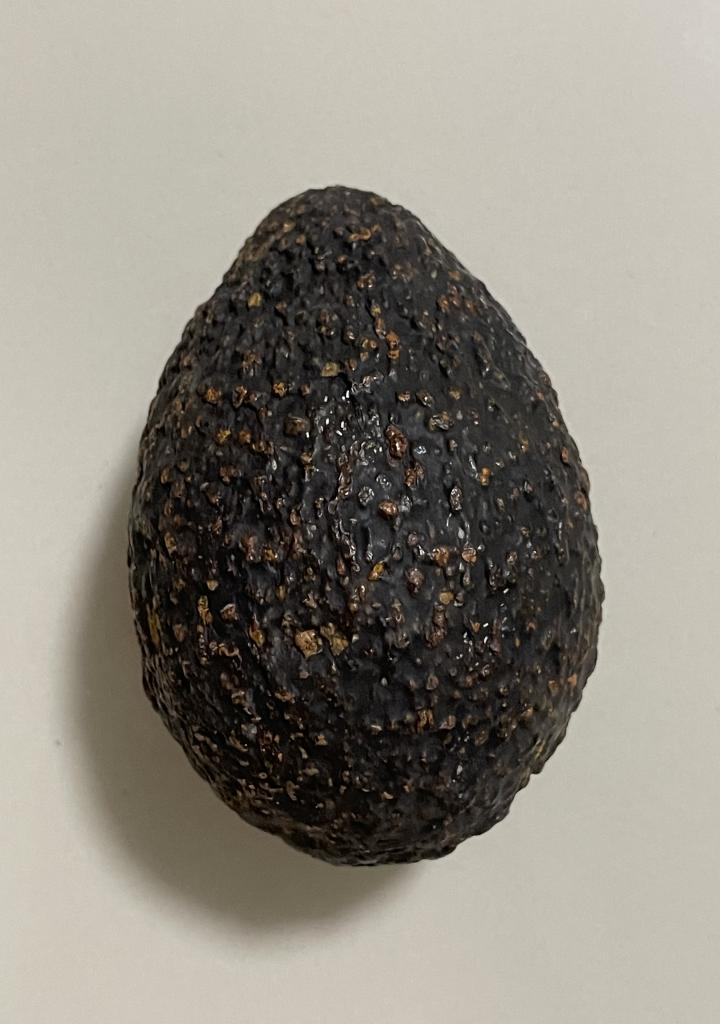Level3: (113, 174, 616, 884)
